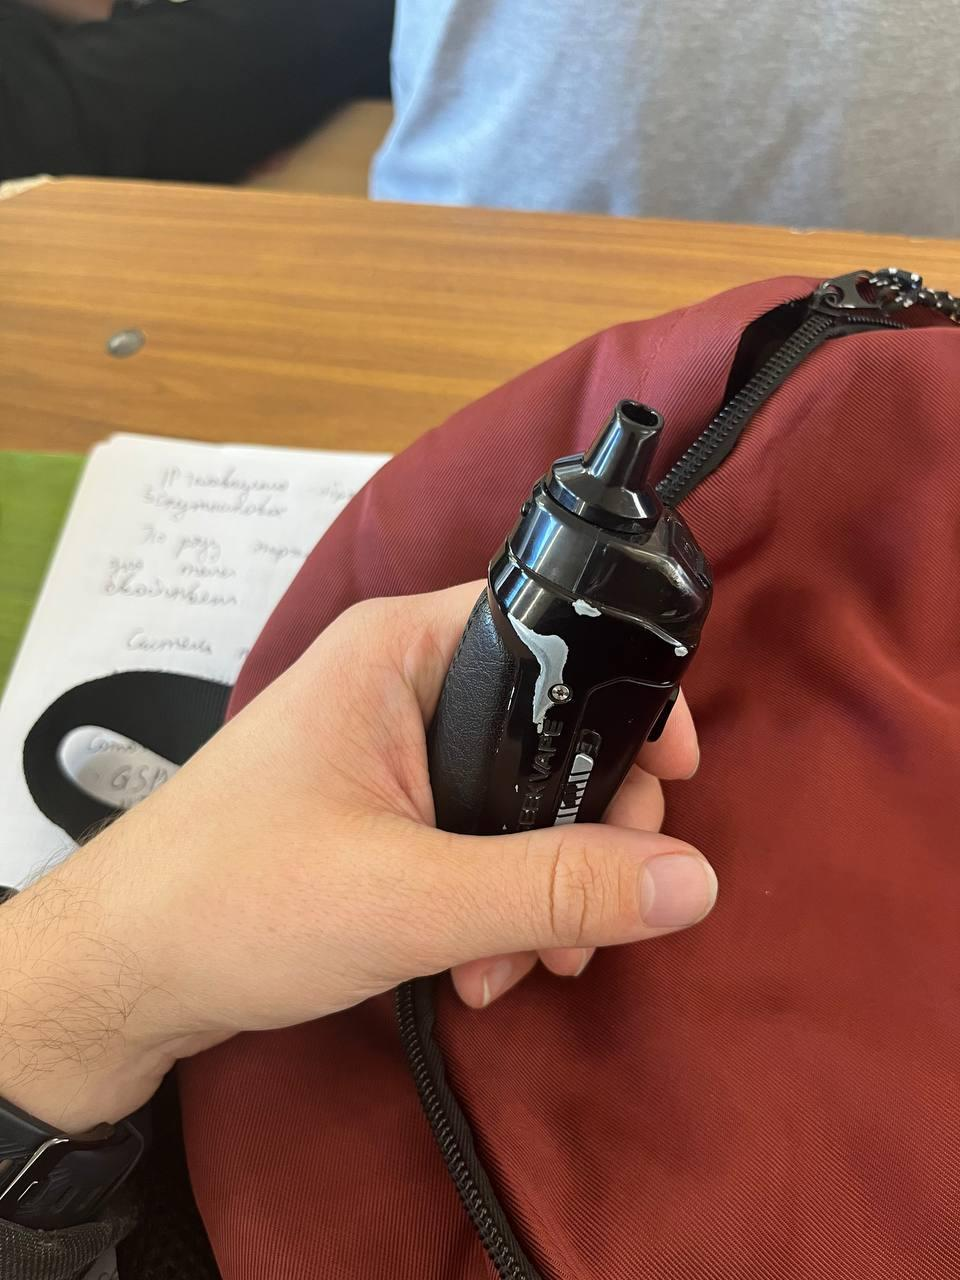Vape: (428, 401, 712, 834)
